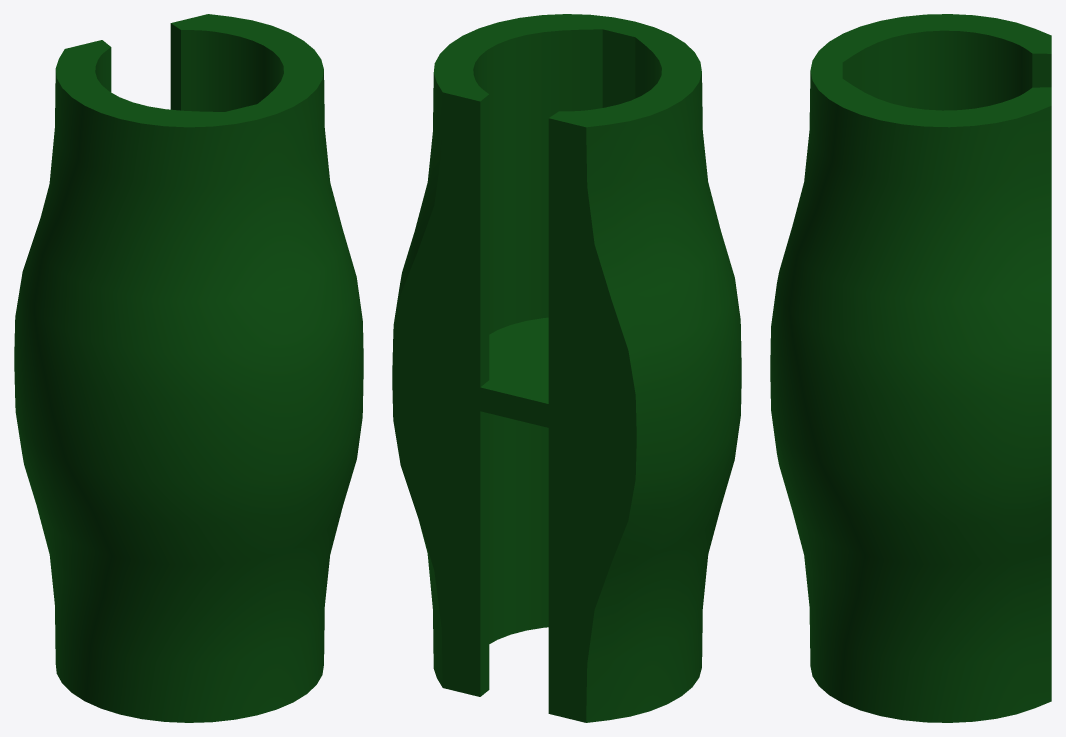
File: c_connector.glb
The picture shows the model from 3 angles, left to right: view 1: azimuth 30°, elevation 25°; view 2: azimuth 150°, elevation 25°; view 3: azimuth 270°, elevation 25°; orthographic projection.
Parts seen in each view (by area): view 1: connector; view 2: connector; view 3: connector.
Part boxes in pixels (x1,y1,x2,y2): connector: (14, 14, 363, 722); connector: (392, 14, 741, 722); connector: (770, 14, 1051, 722).
Size of the model in its own units: 0.0133 by 0.025 by 0.0107.
